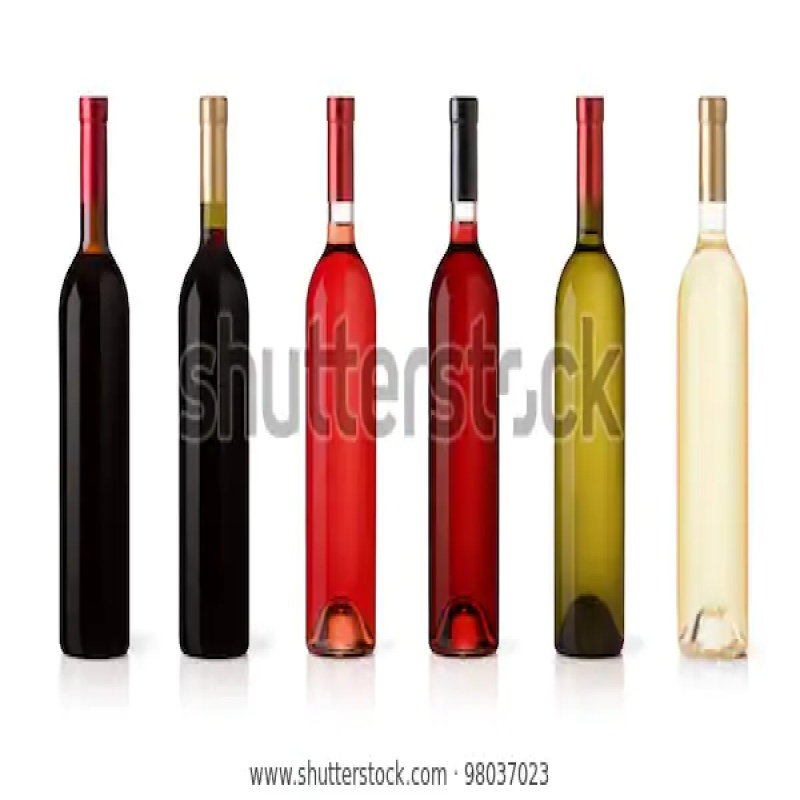wine: (411, 100, 503, 655), (295, 100, 383, 659), (671, 96, 755, 664), (550, 97, 634, 655), (175, 100, 255, 658), (59, 99, 131, 658)
